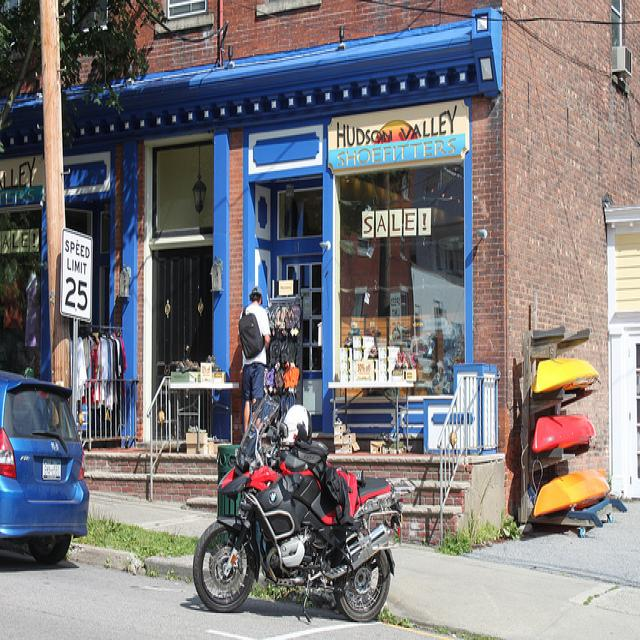motor: (189, 395, 403, 622)
